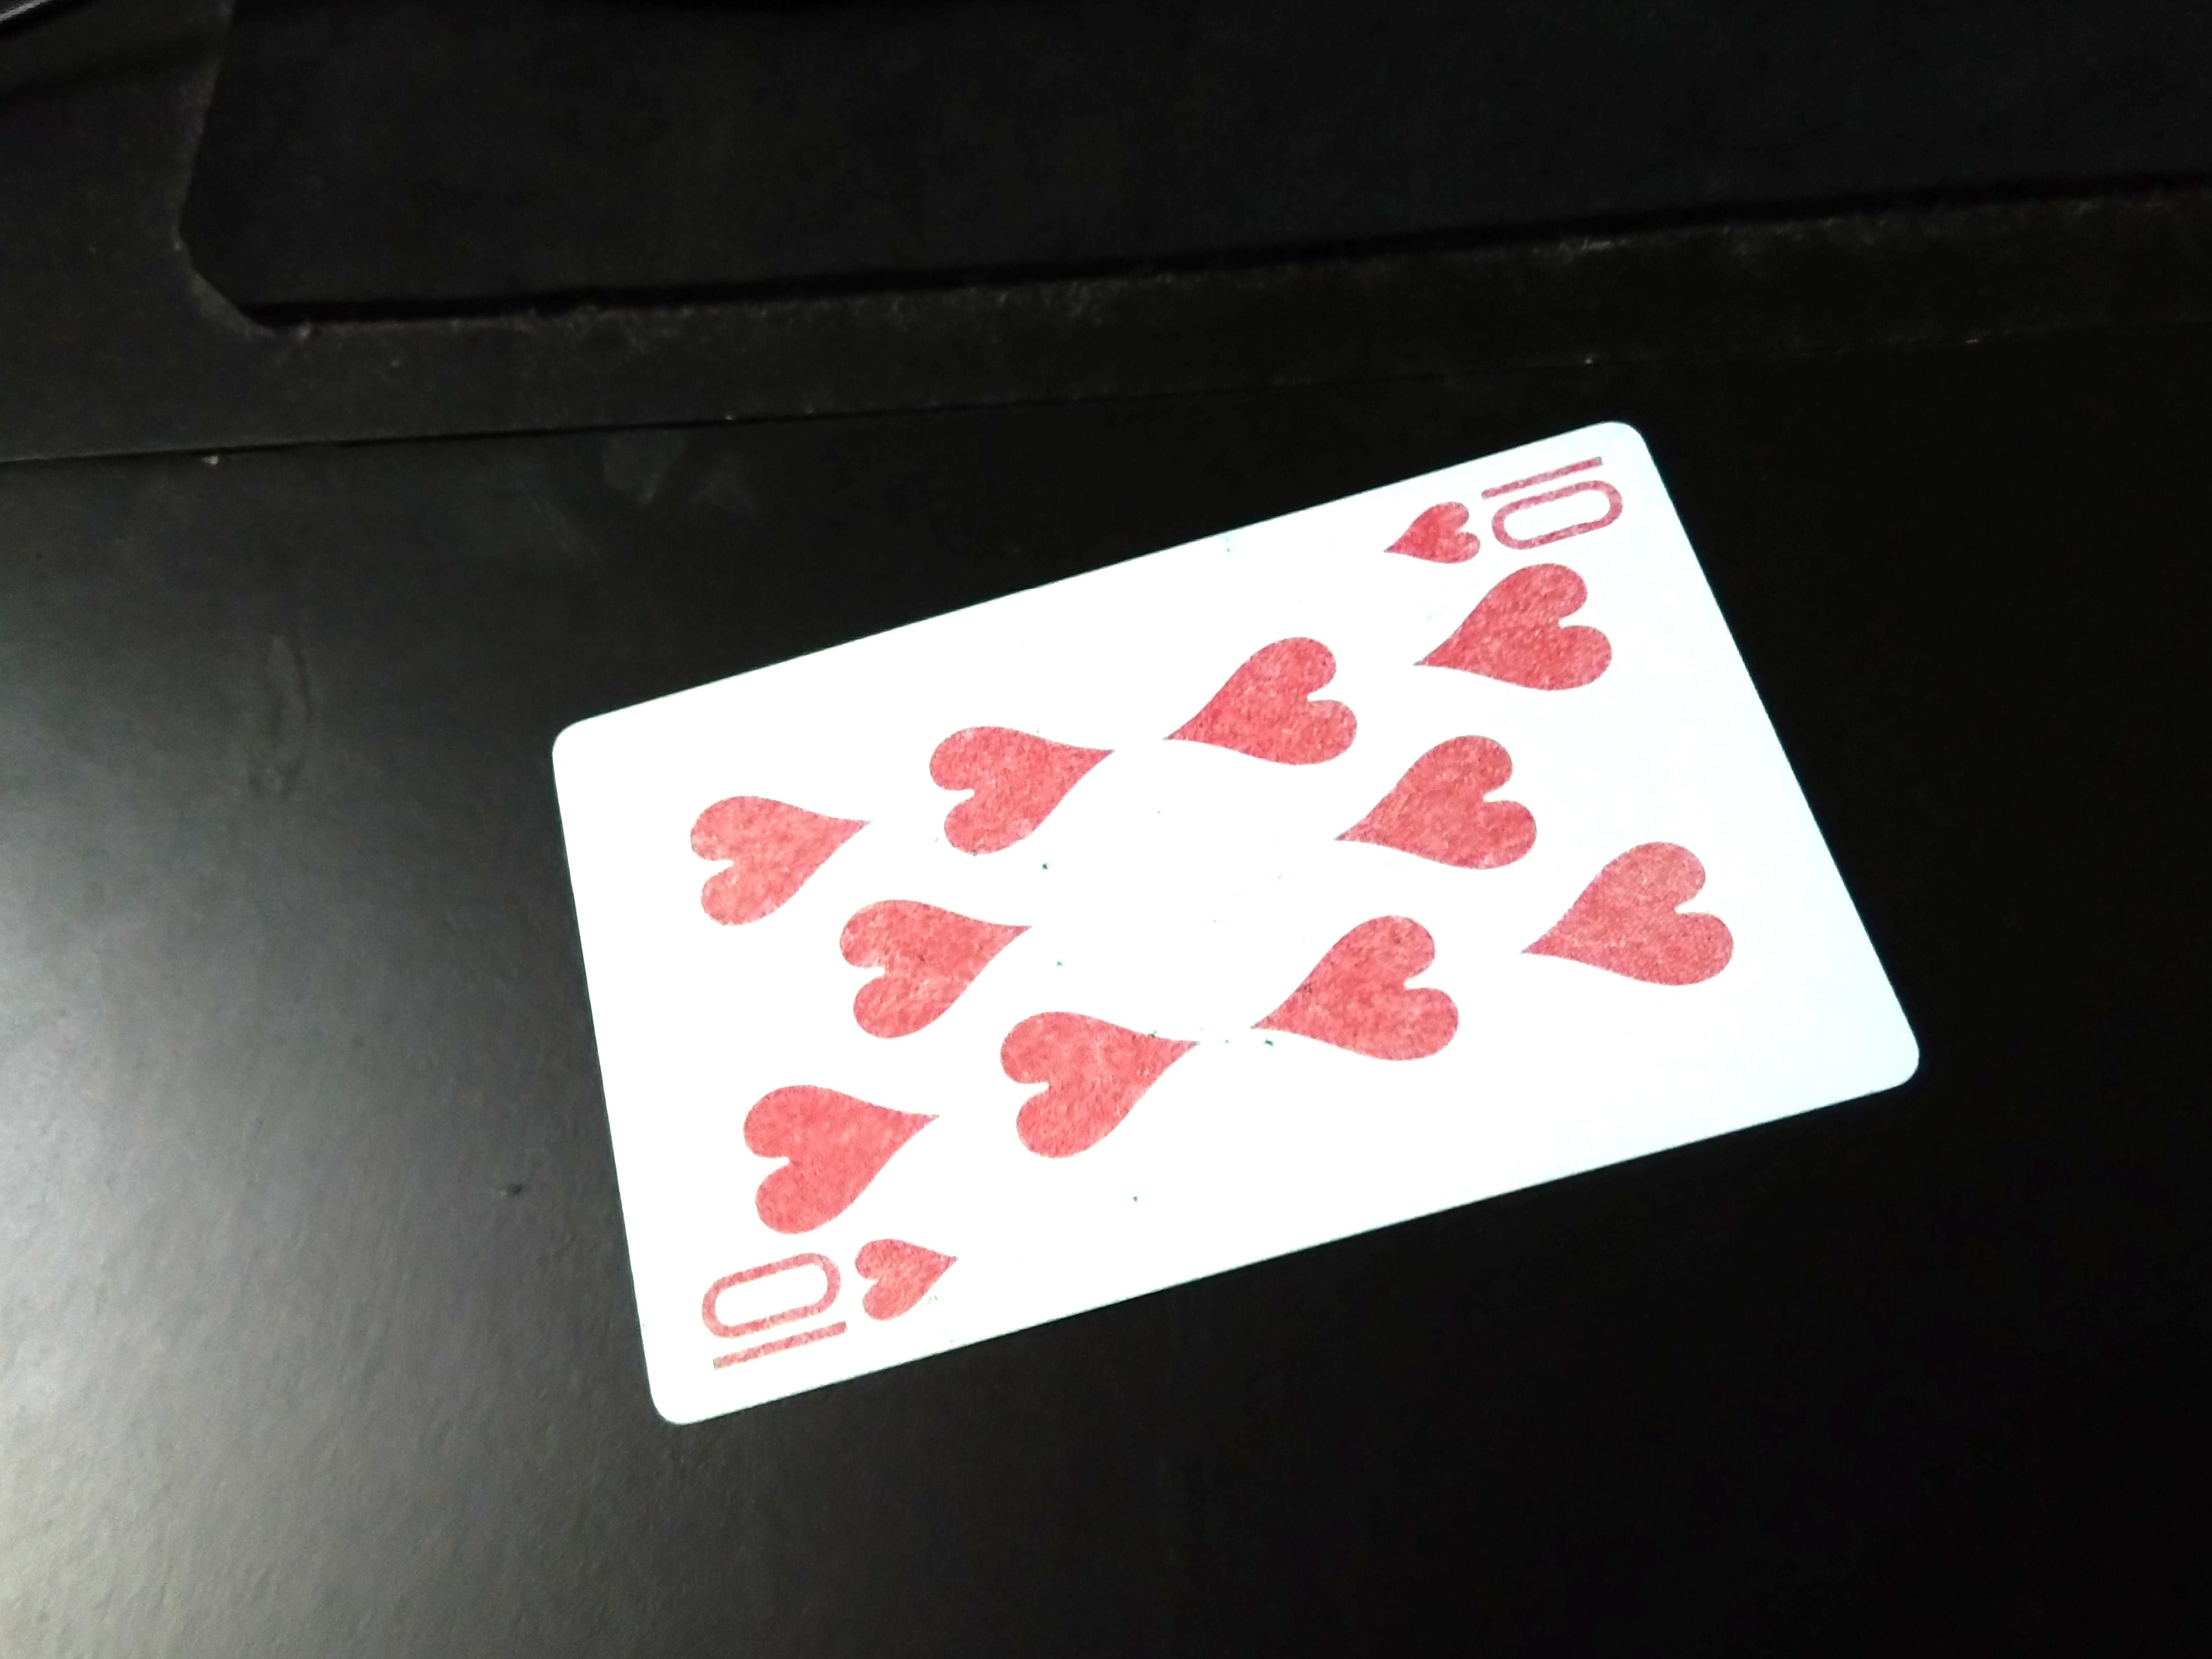10H: (704, 1234, 949, 1377)
